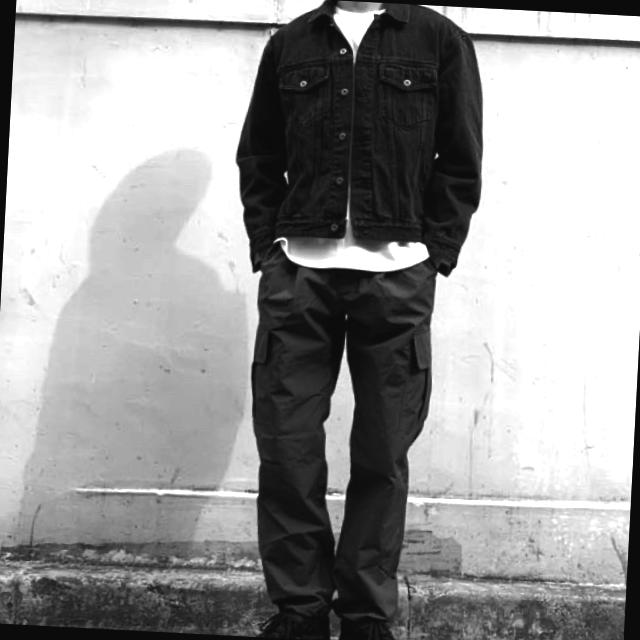cottonpants: (236, 244, 438, 632)
jacket: (225, 0, 487, 284)
